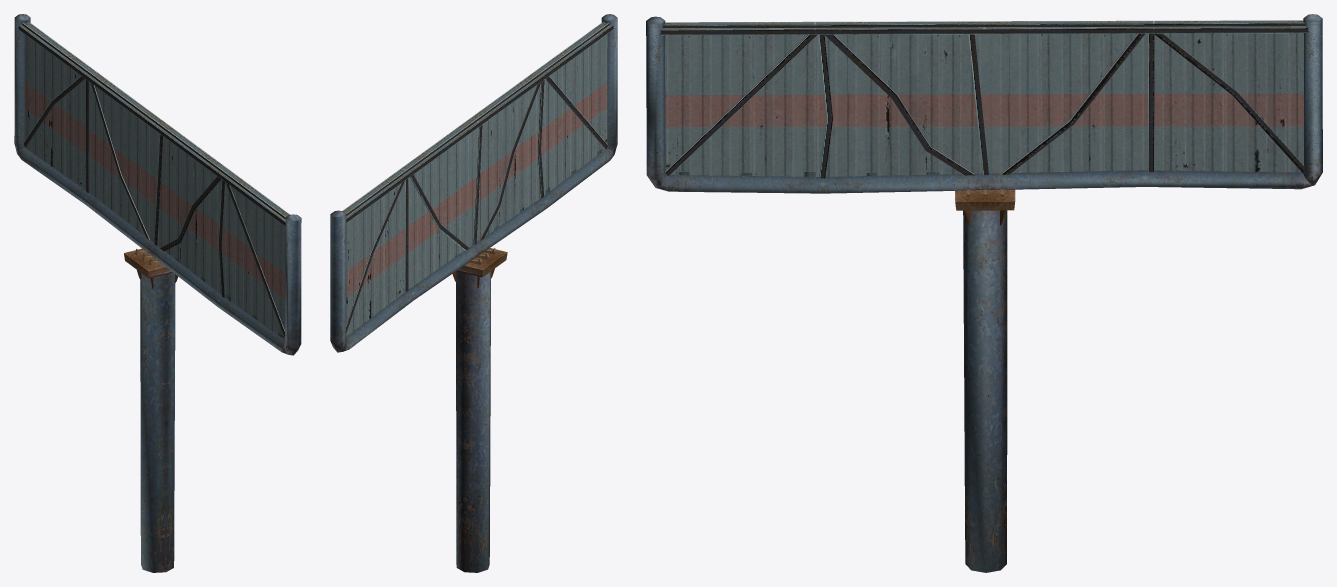
File: Prop_Wj015.glb
The picture shows the model from 3 angles, left to right: view 1: azimuth 30°, elevation 25°; view 2: azimuth 150°, elevation 25°; view 3: azimuth 270°, elevation 25°; orthographic projection. The views are drawn at different scales.
Visible parts, largest first — view 1: xiutz_wj015_0; view 2: xiutz_wj015_0; view 3: xiutz_wj015_0.
Part boxes in pixels (<box>): xiutz_wj015_0: <box>14,14,301,572</box>; xiutz_wj015_0: <box>330,14,617,572</box>; xiutz_wj015_0: <box>646,14,1322,572</box>.
Bounding box in the file's own units: 4.56 × 45.94 × 51.23.
Materials: 2 (2 with a texture image).
